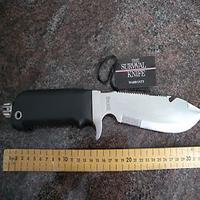knife: (7, 83, 200, 142)
